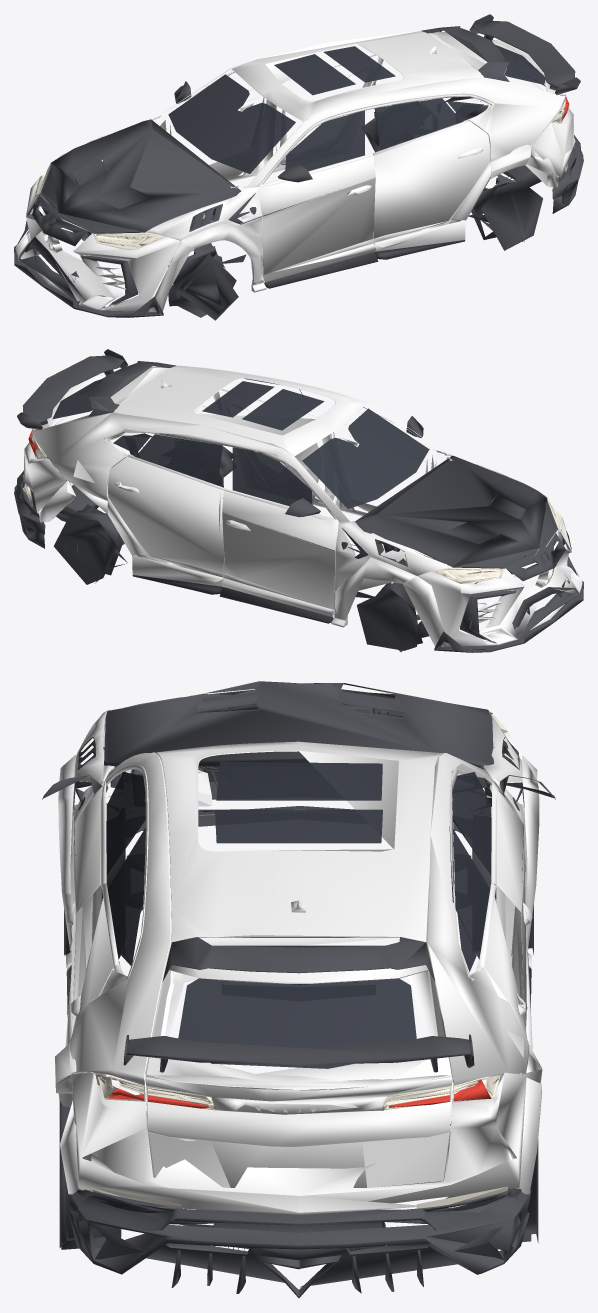
File: urus-rival.glb
The picture shows the model from 3 angles, top to bottom: view 1: azimuth 30°, elevation 25°; view 2: azimuth 150°, elevation 25°; view 3: azimuth 270°, elevation 25°; orthographic projection. The views are drawn at different scales.
Visible parts, largest first — view 1: door-rr, wheelRL, windscreen, ligthd-RR; view 2: door-rr, wheelRL, windscreen, ligthd-RR; view 3: door-rr, wheelRL, windscreen, ligthd-RR.
Boxes of the visible parts, x1,y1,x2,y2 form: door-rr: [15, 30, 575, 311]; wheelRL: [14, 14, 583, 320]; windscreen: [168, 44, 576, 173]; ligthd-RR: [35, 94, 569, 249]; door-rr: [22, 365, 582, 646]; wheelRL: [14, 349, 583, 652]; windscreen: [21, 378, 429, 508]; ligthd-RR: [23, 429, 562, 583]; door-rr: [55, 683, 542, 1215]; wheelRL: [42, 681, 555, 1297]; windscreen: [92, 761, 505, 1213]; ligthd-RR: [90, 697, 507, 1208].
Size of the model in its own units: 4.54 by 1.39 by 1.95.
